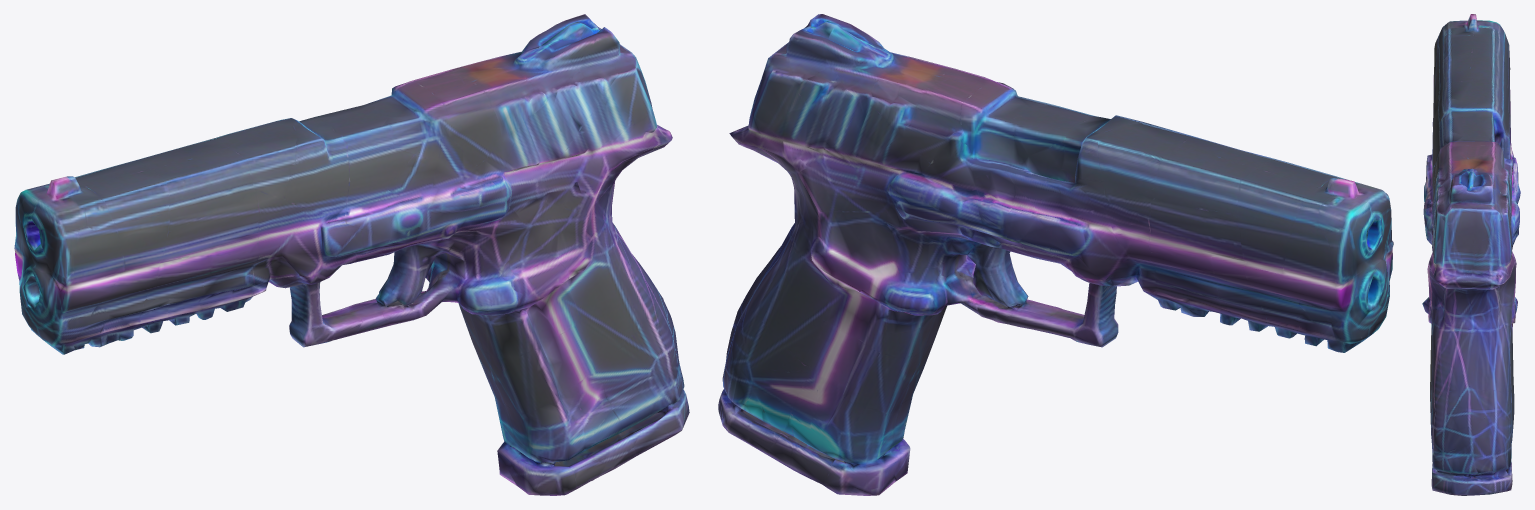
File: neonpistolet.glb
The picture shows the model from 3 angles, left to right: view 1: azimuth 30°, elevation 25°; view 2: azimuth 150°, elevation 25°; view 3: azimuth 270°, elevation 25°; orthographic projection. The views are drawn at different scales.
Size of the model in its own units: 2 by 1.32 by 0.3695.
1 material, 1 textured.
